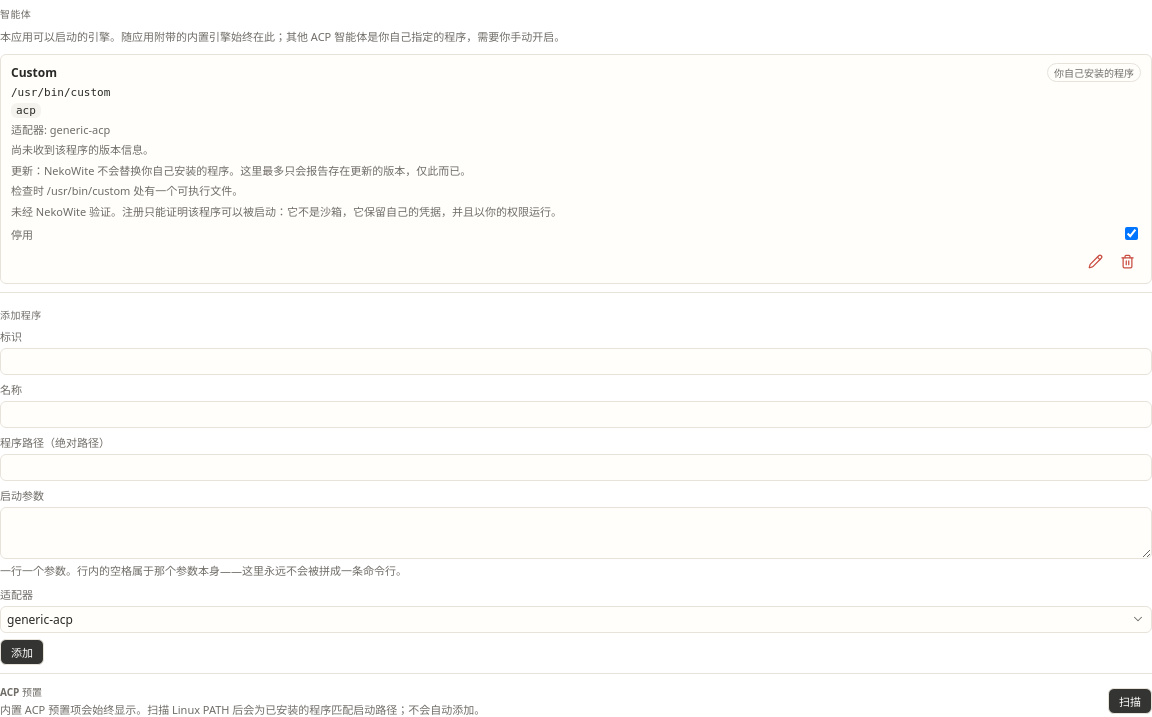
it: Agent registration management › requires confirmation and refreshes after persistent deletion
What coordinates should you click on to do the following:
click the button with test id "registry-delete-custom"
I would click on:
 (1127, 261)
Its box is [1113,247,1141,275].
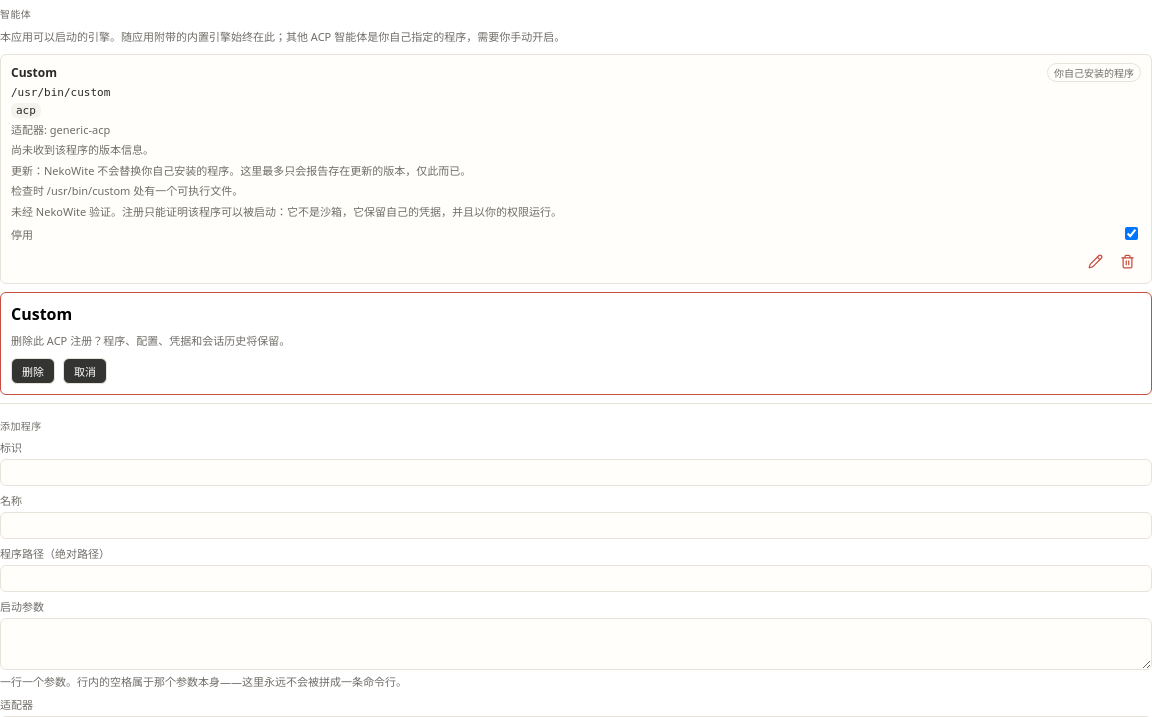
Expected: the button with test id "registry-confirm-delete" is shown
What coordinates should you click on to do the following:
click the button with test id "registry-confirm-delete"
I would click on:
 (33, 370)
Its box is [11,358,55,384].
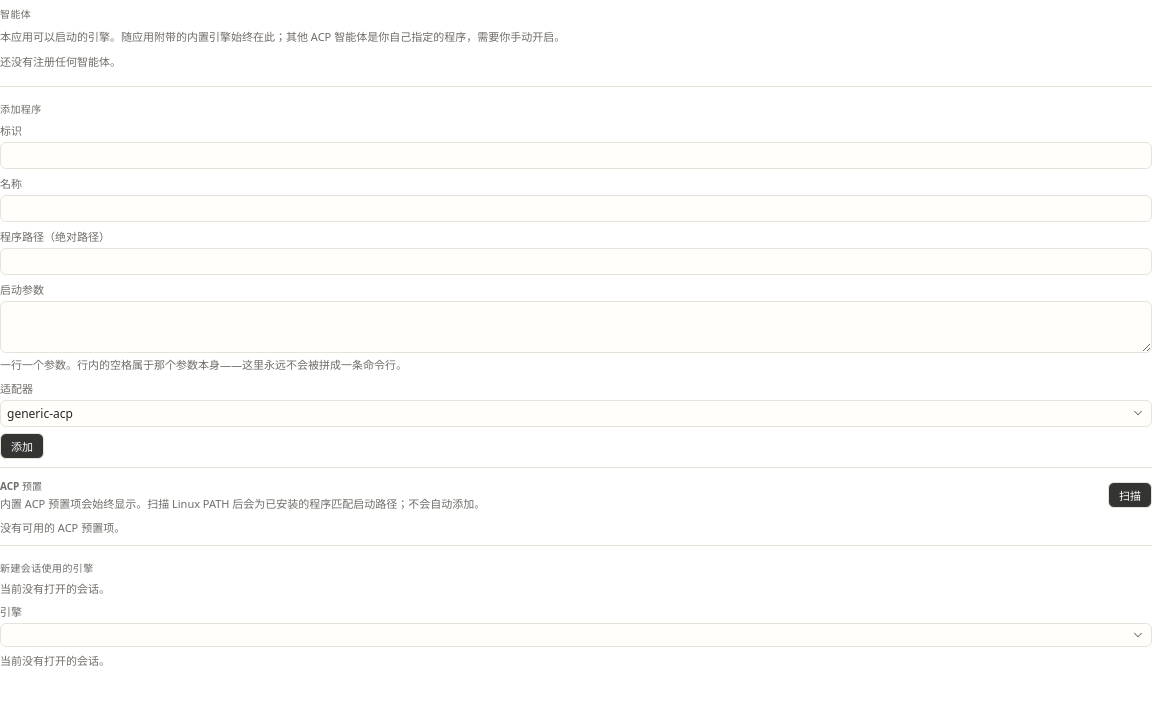
Expected: the list item with test id "registry-row-custom" is gone
